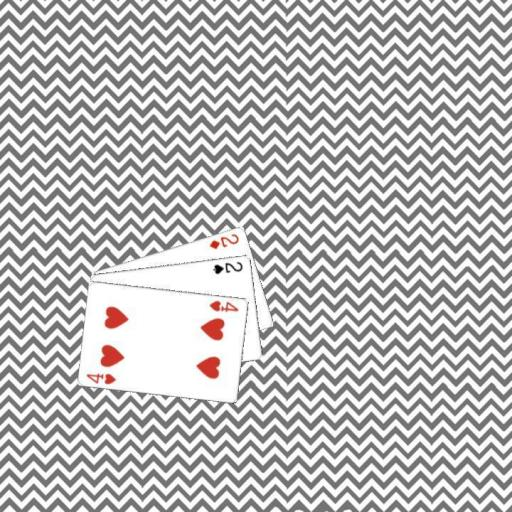card-corner: (206, 230, 240, 250), (210, 258, 244, 275), (206, 297, 240, 313), (84, 370, 117, 385)
